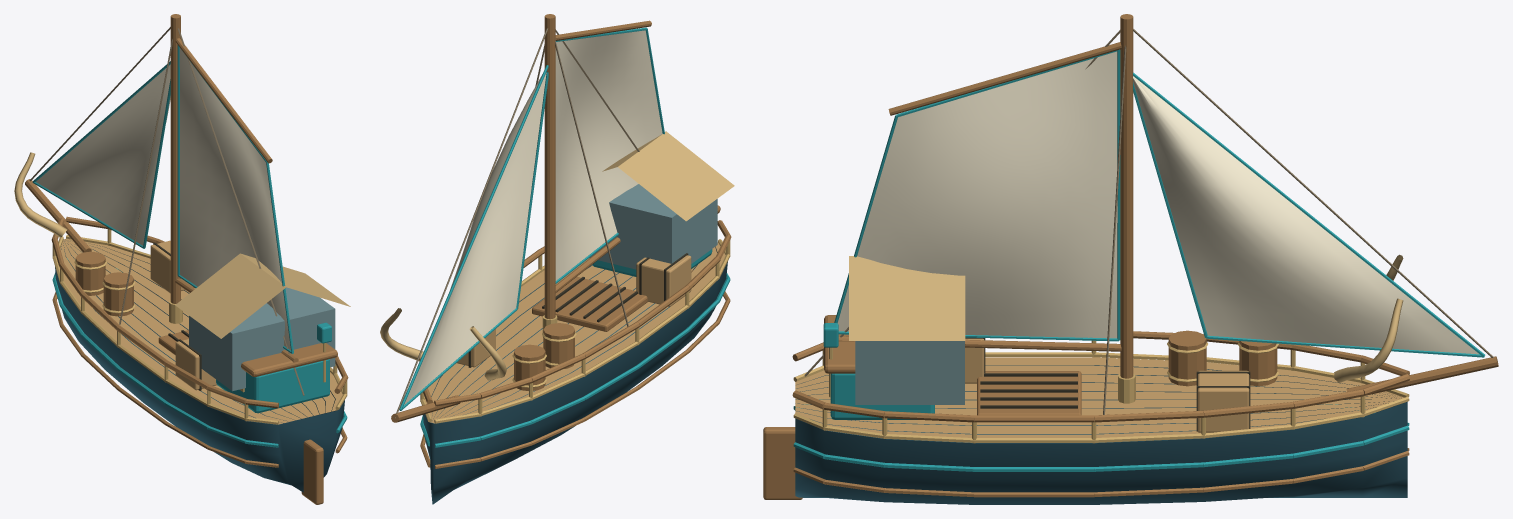
Rendered from ship_sloop.glb.
3 views of the same model, side by side, from view 1: azimuth 30°, elevation 25°; view 2: azimuth 150°, elevation 25°; view 3: azimuth 270°, elevation 25° (orthographic). The views are drawn at different scales.
Parts seen in each view (by area): view 1: Sloop curved hull; view 2: Sloop curved hull; view 3: Sloop curved hull.
Boxes of the visible parts, x1=… form: Sloop curved hull: x1=14, y1=14, x2=350, y2=504; Sloop curved hull: x1=380, y1=14, x2=734, y2=504; Sloop curved hull: x1=763, y1=14, x2=1498, y2=504.
Bounding box in the file's own units: 2.12 × 5.34 × 7.38.
